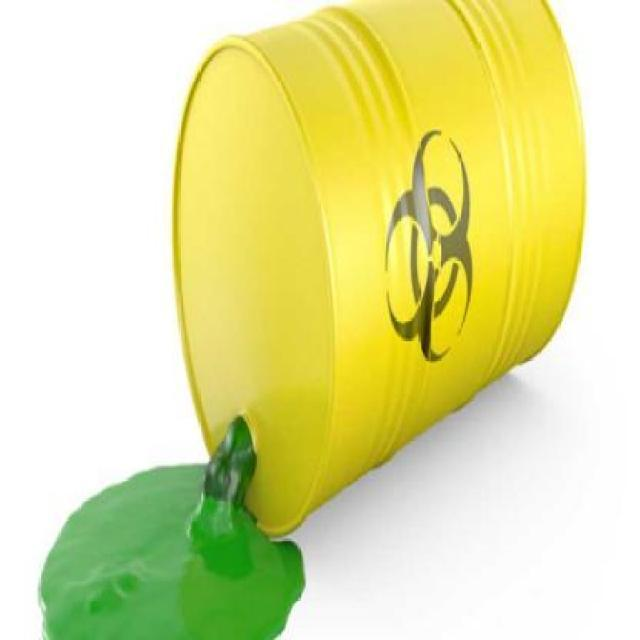spillage: (37, 428, 306, 639)
